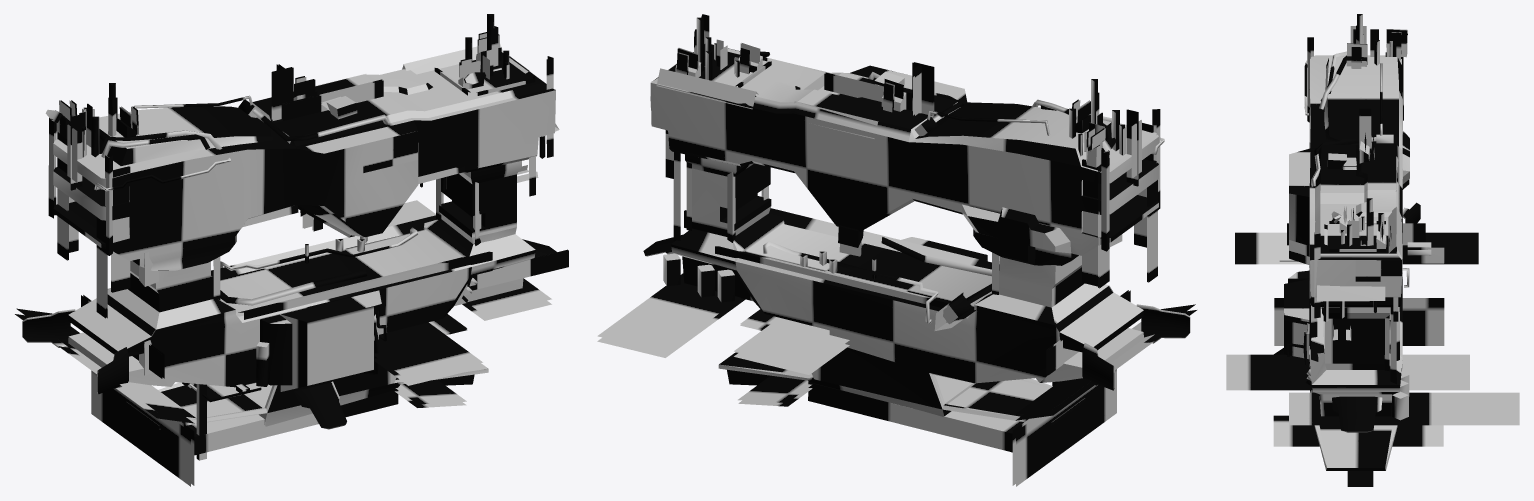
File: building-hq-mmo.obj
3 renders of one model, left to right at view 1: azimuth 30°, elevation 25°; view 2: azimuth 150°, elevation 25°; view 3: azimuth 270°, elevation 25°, orthographic. The views are drawn at different scales.
Visible parts, largest first — view 1: building_mmo_hq; view 2: building_mmo_hq; view 3: building_mmo_hq.
Boxes of the visible parts, left/top/right/bottom form: building_mmo_hq: left=15, top=14, right=568, bottom=486; building_mmo_hq: left=597, top=14, right=1196, bottom=486; building_mmo_hq: left=1226, top=14, right=1519, bottom=486.
Bounding box in the file's own units: 1057 × 776 × 635.
Materials: 1 (1 with a texture image).
